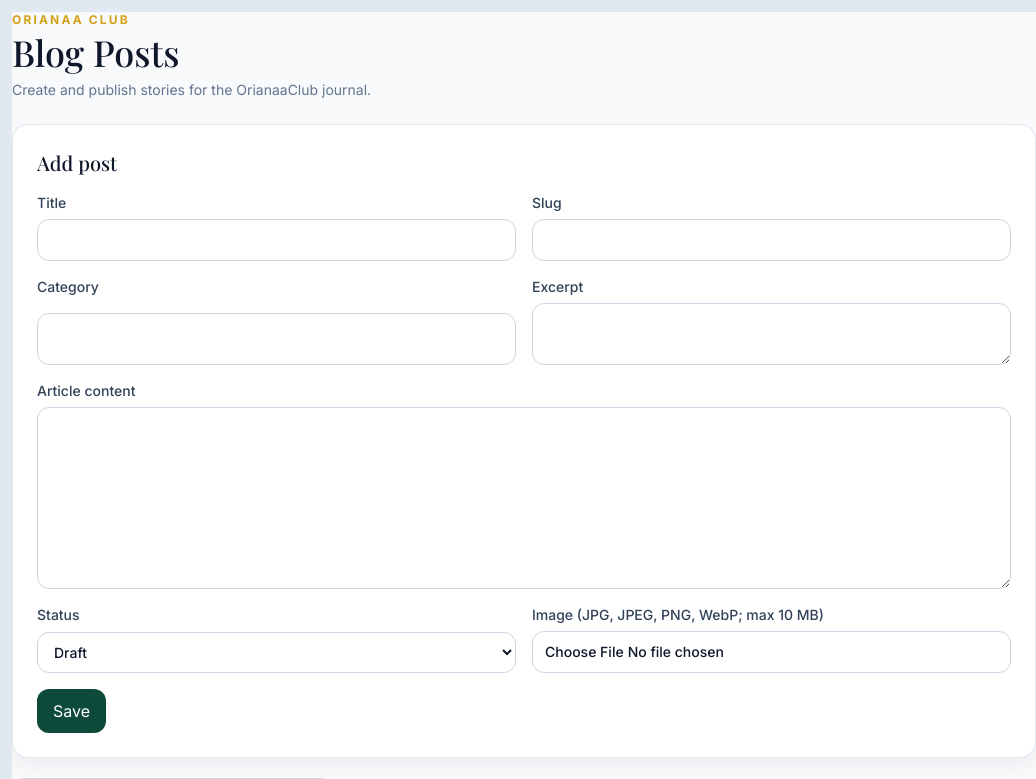
Scenario: all operations routes render API records and visible errors › automatically creates slugs while composing posts
Type "Café & Club Nights!" into the field labelled "Title".
click(276, 240); type("Café & Club Nights!")  # box [37,219,516,261]
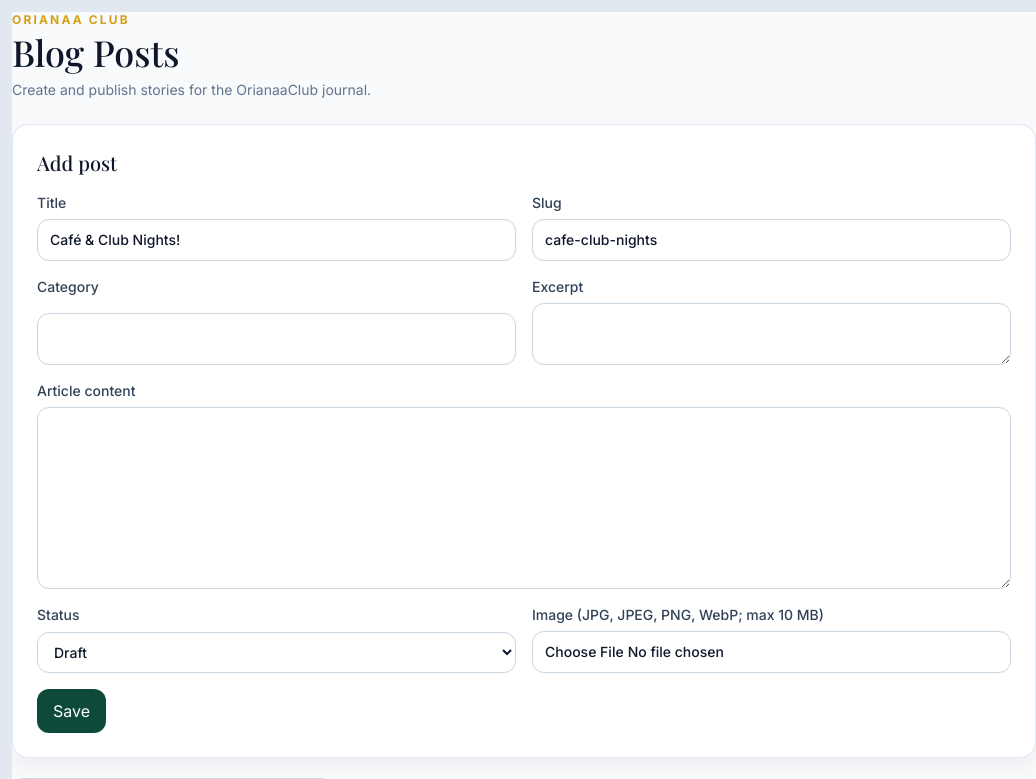
Expected: the field labelled "Slug" holds "cafe-club-nights", [532,219,1011,261]
Replace the text in the field labelled "Title" with "Summer Club Nights" at (276, 240), box [37,219,516,261]
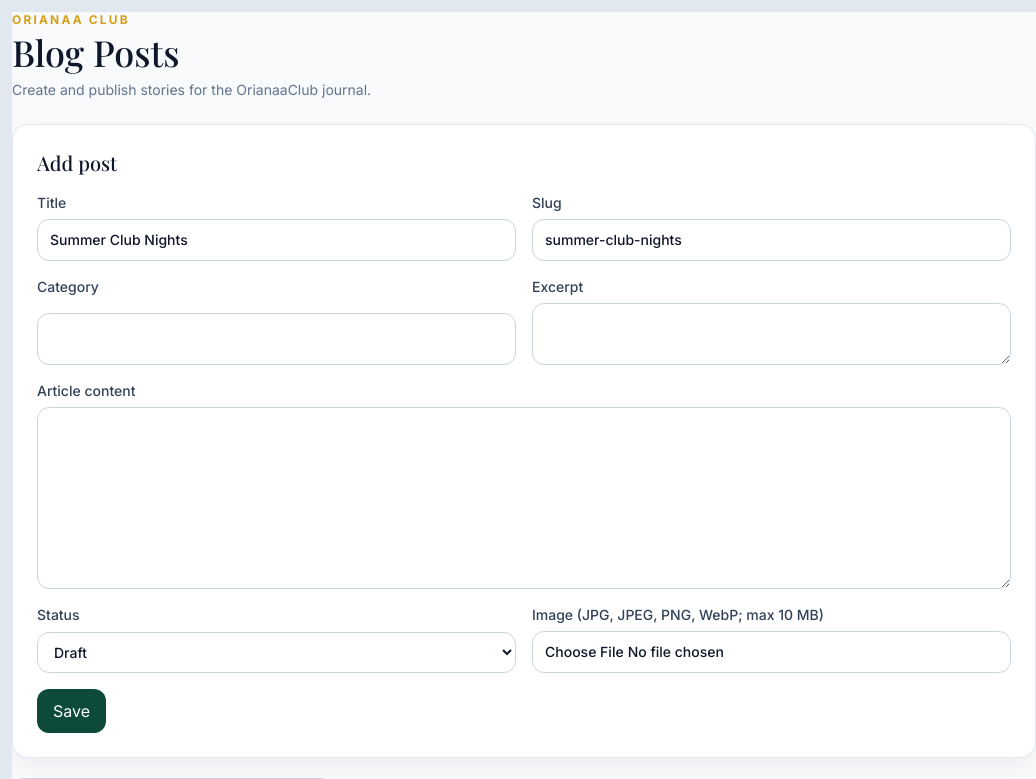
Expected: the field labelled "Slug" holds "summer-club-nights", [532,219,1011,261]
